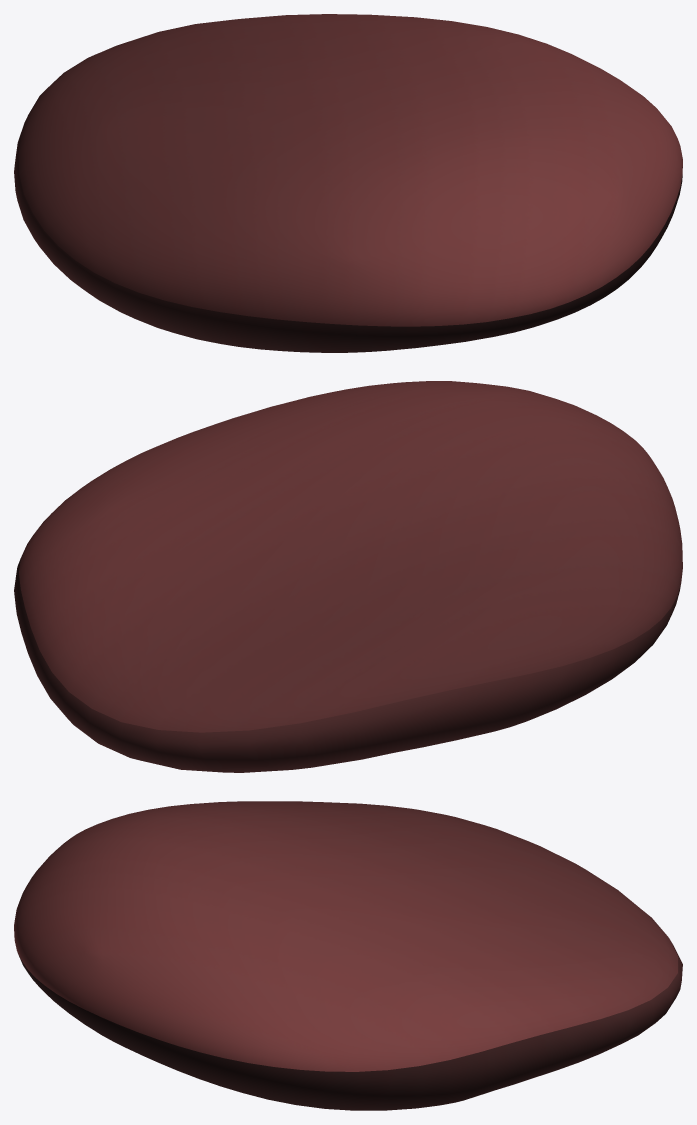
The model's file is common.glb.
3 views of the same model, one above another, from view 1: azimuth 30°, elevation 25°; view 2: azimuth 150°, elevation 25°; view 3: azimuth 270°, elevation 25° (orthographic). The views are drawn at different scales.
Visible parts, largest first — view 1: cs_tongue; view 2: cs_tongue; view 3: cs_tongue.
Part boxes in pixels (box(x1,y1,x2,y2)): cs_tongue: box(14, 14, 682, 352); cs_tongue: box(14, 381, 682, 772); cs_tongue: box(14, 801, 682, 1110).
Bounding box in the file's own units: 0.1197 × 0.0446 × 0.1385.
1 material, 1 textured.
